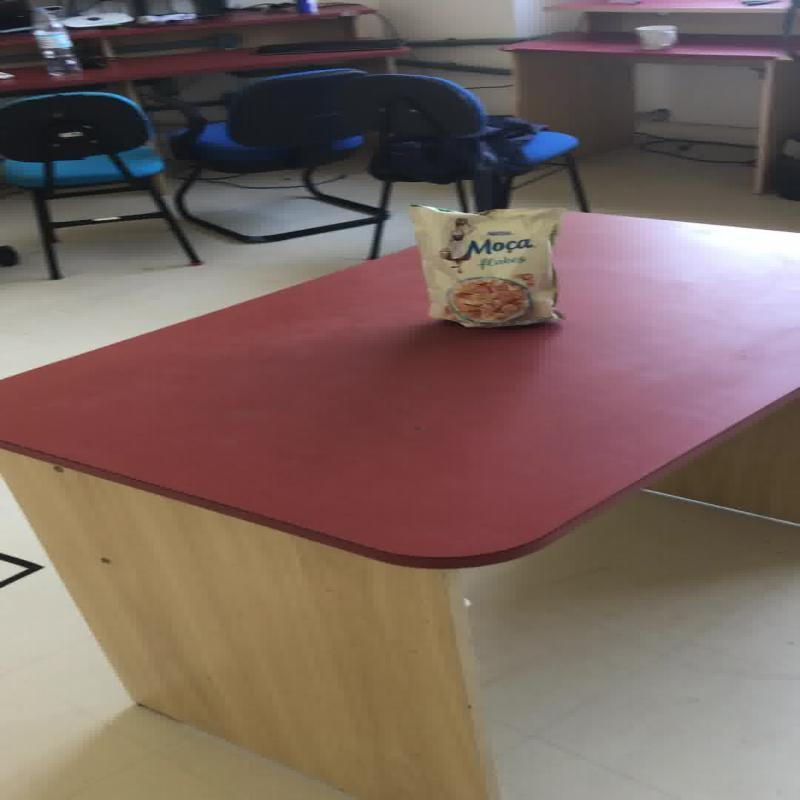corn flakes: (406, 203, 568, 328), (448, 276, 528, 322)
